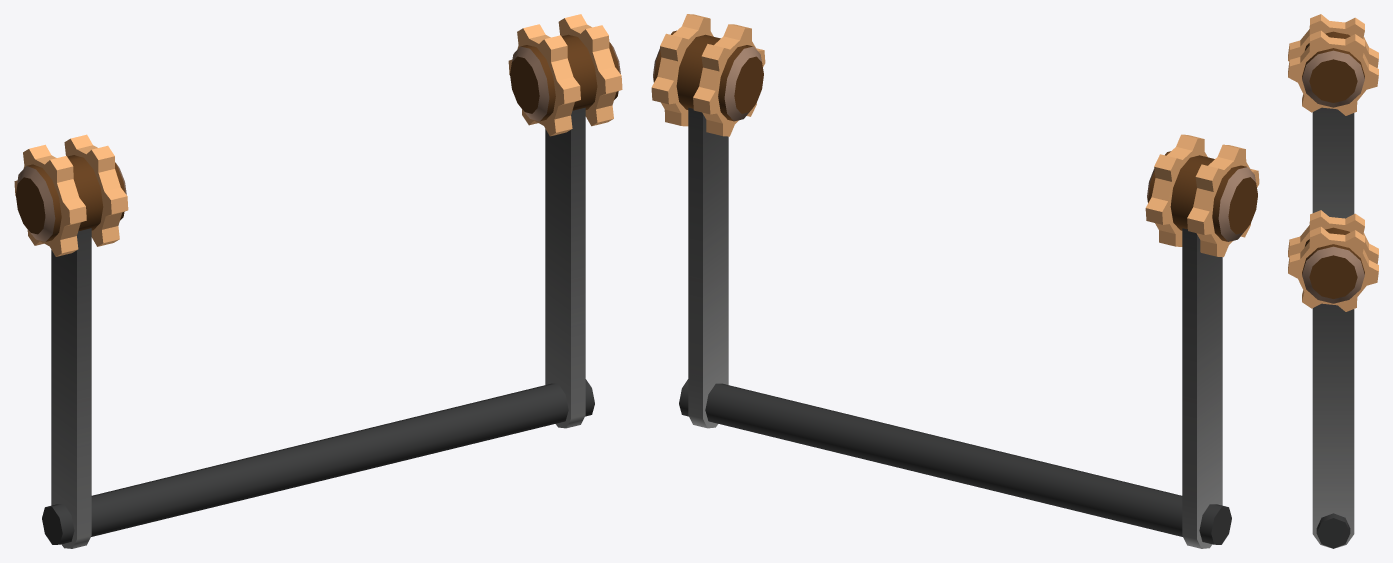
The model's file is obstacle_21_001.fbx.
The picture shows the model from 3 angles, left to right: view 1: azimuth 30°, elevation 25°; view 2: azimuth 150°, elevation 25°; view 3: azimuth 270°, elevation 25°; orthographic projection. The views are drawn at different scales.
Parts seen in each view (by area): view 1: obstacle_21_001; view 2: obstacle_21_001; view 3: obstacle_21_001.
Part boxes in pixels (<box>): obstacle_21_001: <box>14,14,622,548</box>; obstacle_21_001: <box>651,14,1259,548</box>; obstacle_21_001: <box>1288,14,1378,548</box>.
Size of the model in its own units: 708 by 119 by 469.
